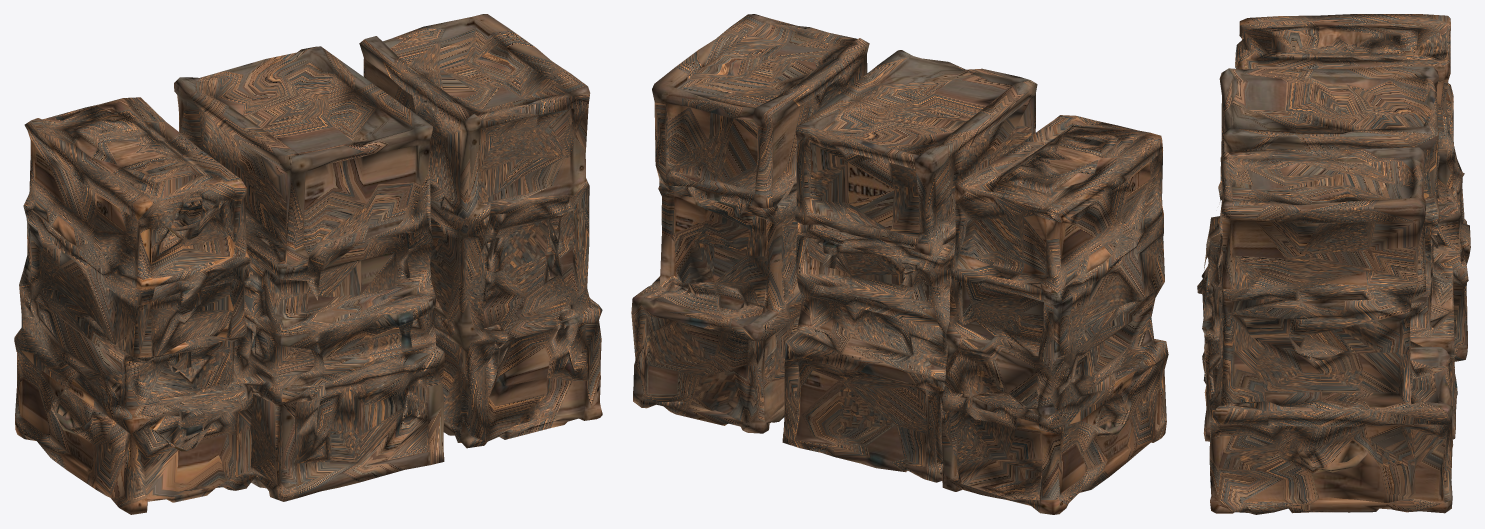
Rendered from crate-stack.glb.
3 views of the same model, side by side, from view 1: azimuth 30°, elevation 25°; view 2: azimuth 150°, elevation 25°; view 3: azimuth 270°, elevation 25° (orthographic). The views are drawn at different scales.
Size of the model in its own units: 1.89 by 1.3 by 1.03.
1 material, 1 textured.
